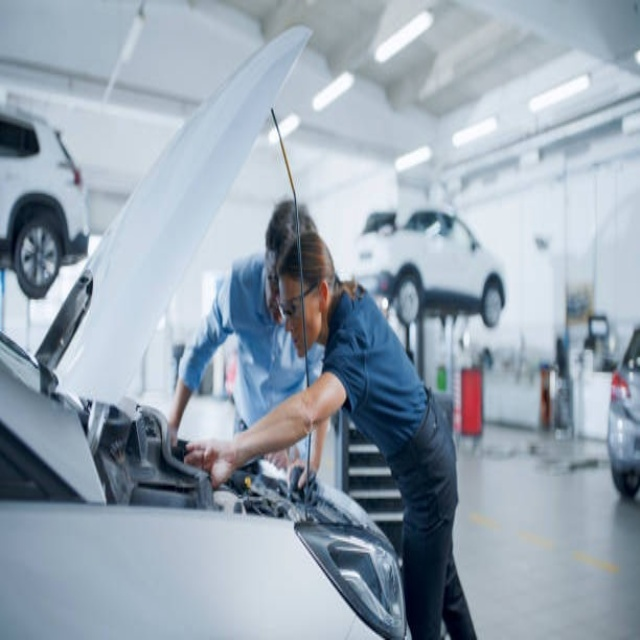Gafas: (276, 280, 321, 321)
Sin_guantes: (182, 426, 237, 493)
Sin_mascara: (283, 322, 307, 361)
